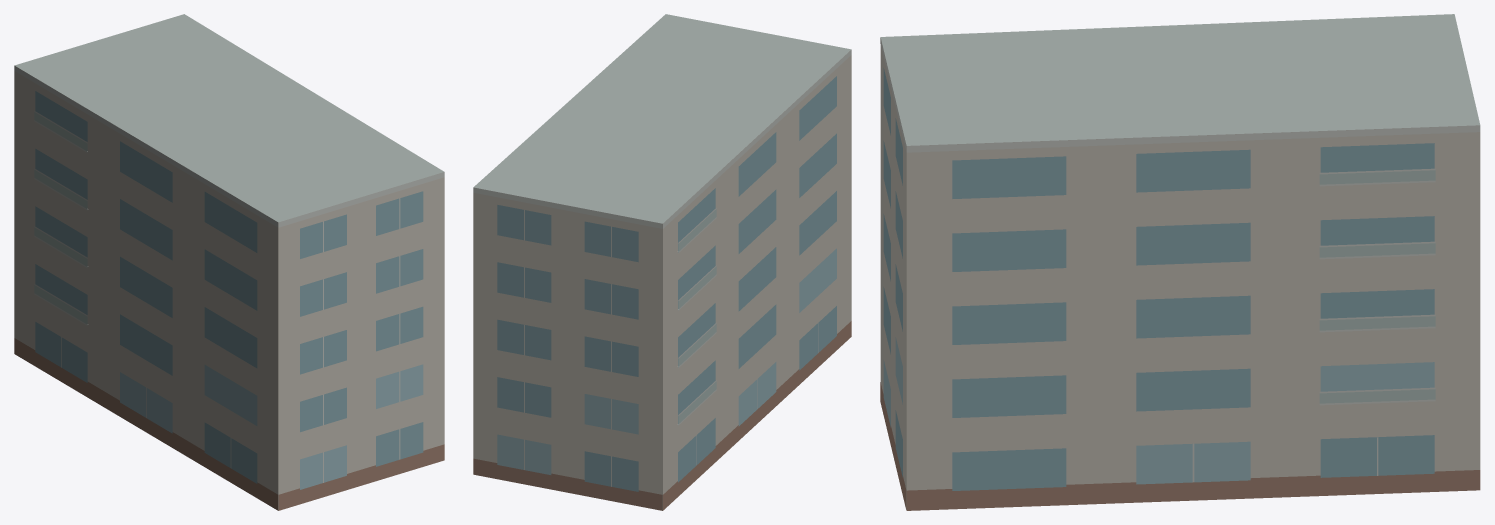
The model's file is survey-upis-32569650.glb.
3 renders of one model, left to right at view 1: azimuth 30°, elevation 25°; view 2: azimuth 150°, elevation 25°; view 3: azimuth 270°, elevation 25°, orthographic. The views are drawn at different scales.
Visible parts, largest first — view 1: survey-upis-32569650.tmp; view 2: survey-upis-32569650.tmp; view 3: survey-upis-32569650.tmp.
Boxes of the visible parts, bbox=[...] form: survey-upis-32569650.tmp: bbox=[14, 14, 444, 510]; survey-upis-32569650.tmp: bbox=[473, 14, 851, 510]; survey-upis-32569650.tmp: bbox=[880, 14, 1480, 510].
Bounding box in the file's own units: 10.24 × 13.2 × 19.67.
